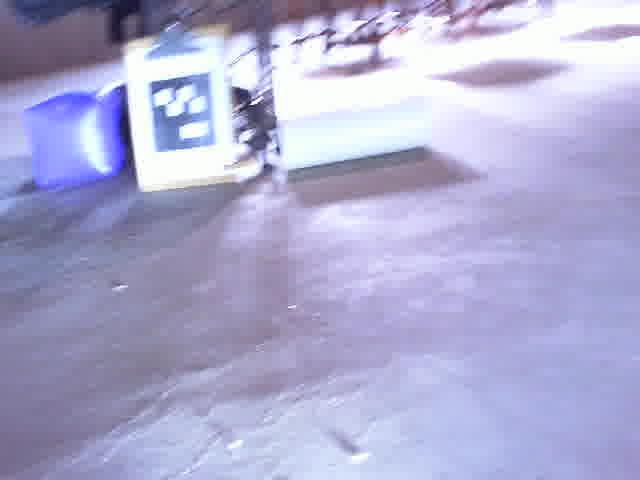coral: (276, 88, 436, 177)
